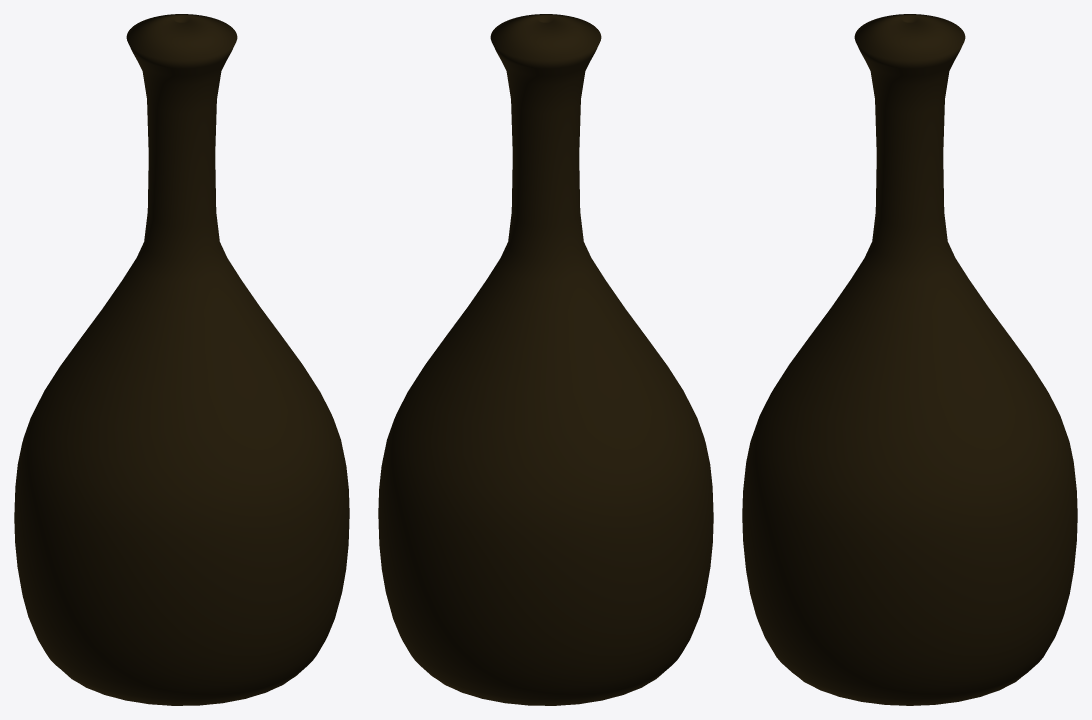
File: bottle.fbx
The picture shows the model from 3 angles, left to right: view 1: azimuth 30°, elevation 25°; view 2: azimuth 150°, elevation 25°; view 3: azimuth 270°, elevation 25°; orthographic projection.
Parts seen in each view (by area): view 1: Bottle; view 2: Bottle; view 3: Bottle.
Boxes of the visible parts, x1,y1,x2,y2 form: Bottle: (14, 14, 349, 705); Bottle: (378, 14, 713, 705); Bottle: (742, 14, 1077, 705).
Bounding box in the file's own units: 32.75 × 69.47 × 32.75.
